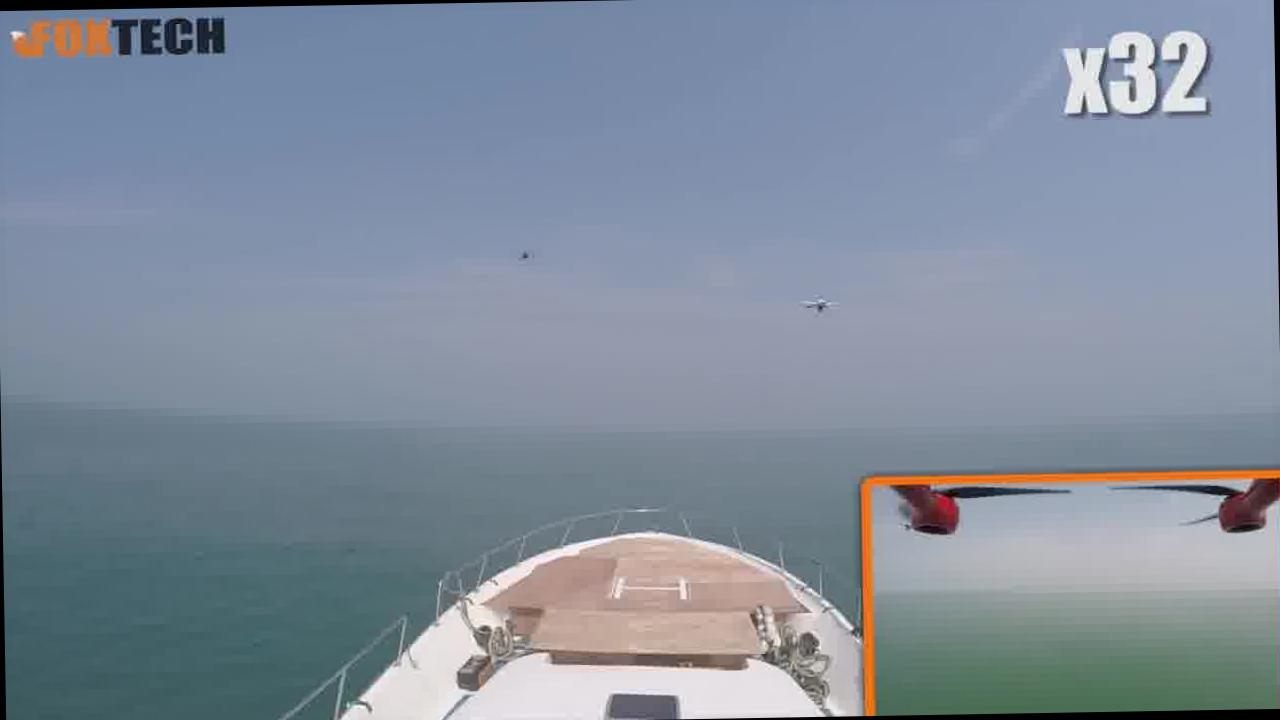drone: (796, 264, 842, 324), (506, 236, 544, 282)
